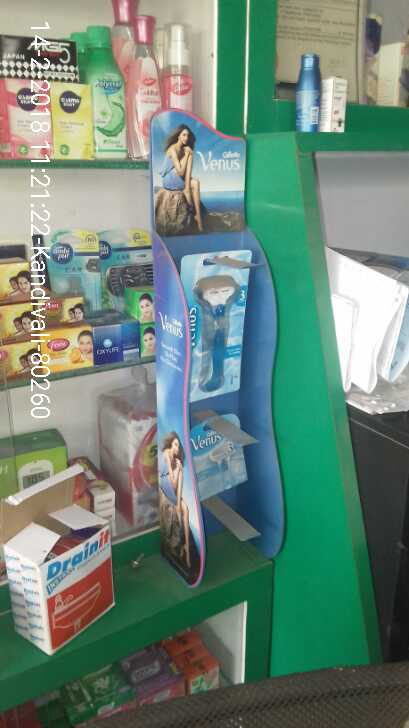venus: (173, 248, 248, 399), (177, 412, 258, 506)
